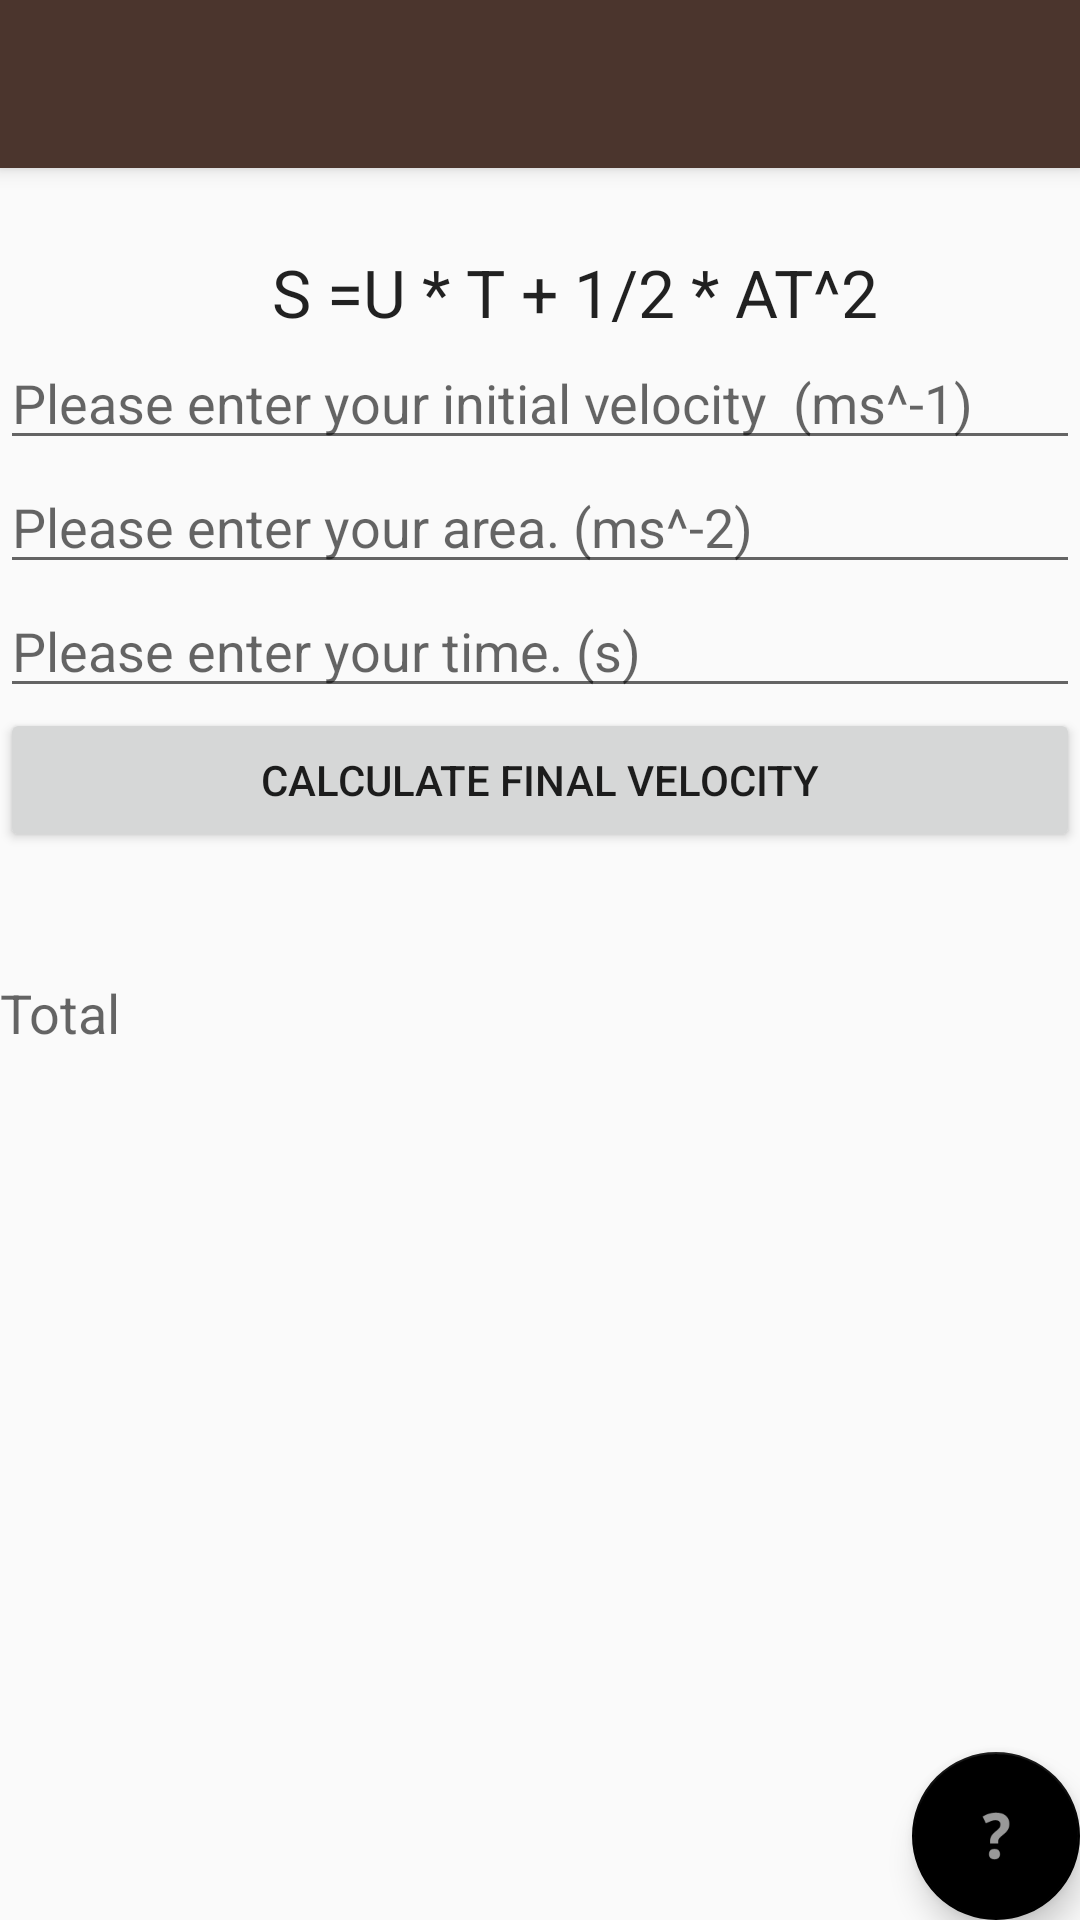

Icon click points for this 1080 × 1920 phone screenshot, format point (x, y):
help: point (996, 1836)
